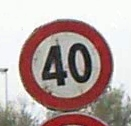limite 40: (17, 17, 112, 109)
